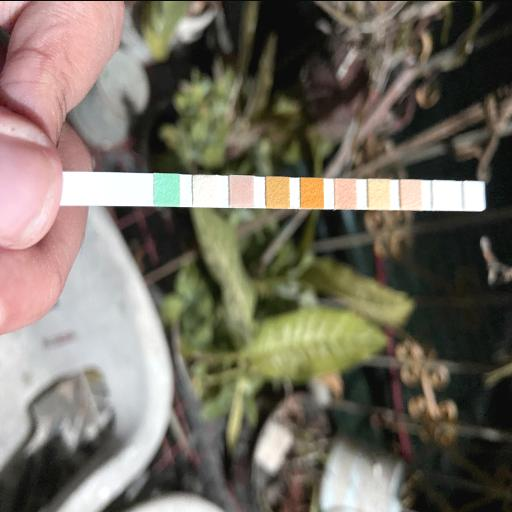Bilirubin: (194, 176, 217, 204)
Blood: (301, 178, 323, 206)
Glucose: (155, 173, 179, 205)
Ketone: (230, 176, 254, 206)
Leukocytes: (466, 181, 482, 209)
Nitrite: (434, 181, 454, 208)
Protein: (369, 179, 389, 207)
SpGravity: (266, 178, 288, 206)
Urobilinogen: (401, 180, 421, 208)
pH: (336, 180, 356, 208)
strip: (64, 171, 486, 210)
